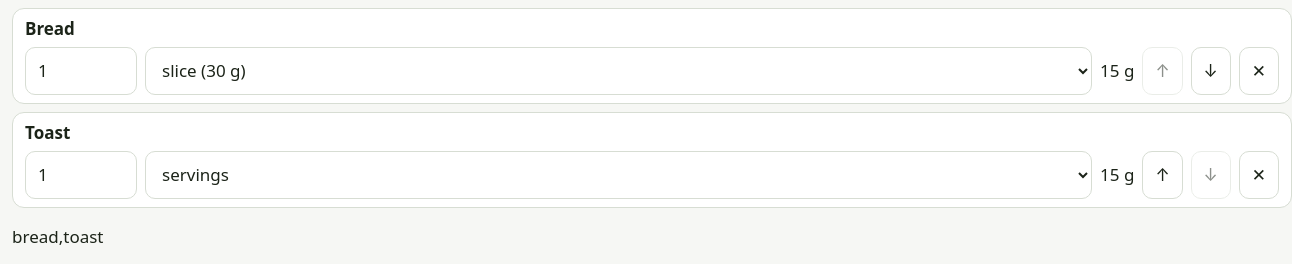
Test: ItemEditor › reorders and removes items
Click the button named "Move Toast up".
click(1162, 175)  # box [1142,151,1183,199]
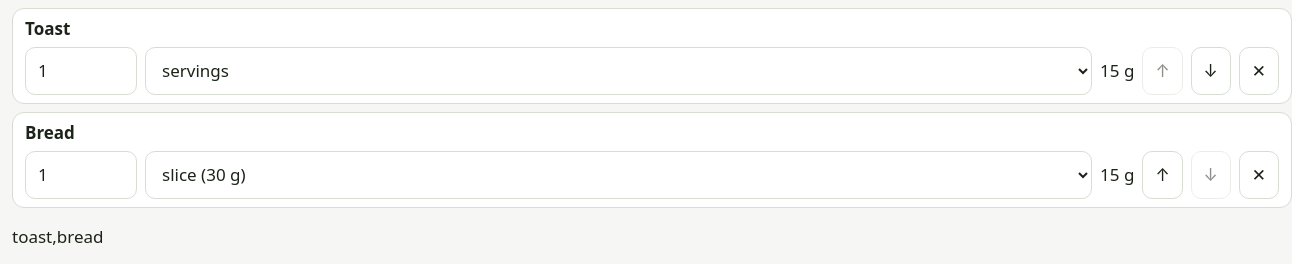
Check: the text with test id "order" reads "toast,bread", box [12,225,104,248]
Click the button named "Remove Bread".
click(1259, 175)  # box [1239,151,1279,199]
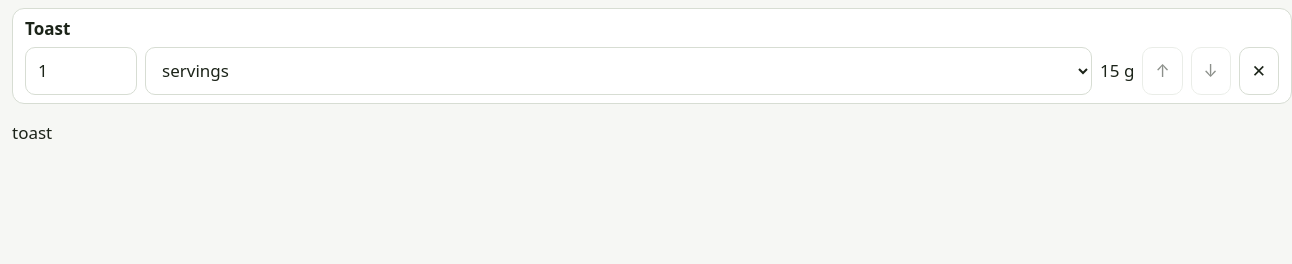
Check: the text with test id "order" reads "toast", box [12,121,52,144]
